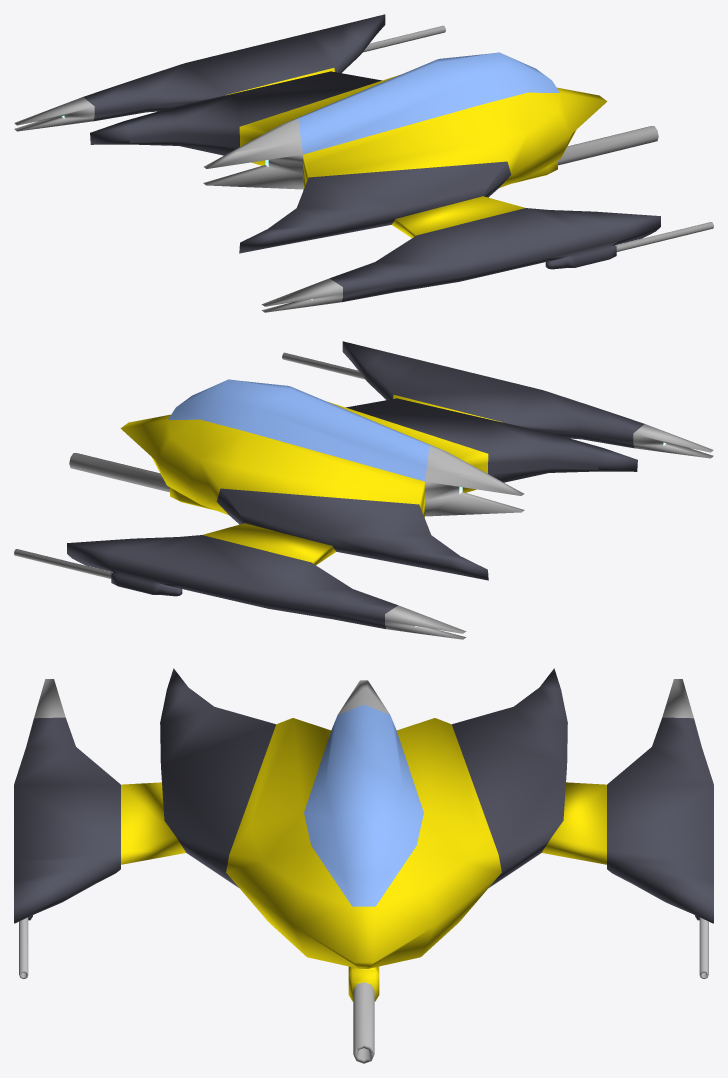
Rendered from Laser Enemy.fbx.
The picture shows the model from 3 angles, top to bottom: view 1: azimuth 30°, elevation 25°; view 2: azimuth 150°, elevation 25°; view 3: azimuth 270°, elevation 25°; orthographic projection. The views are drawn at different scales.
Visible parts, largest first — view 1: Ship; view 2: Ship; view 3: Ship.
Boxes of the visible parts, x1,y1,x2,y2 form: Ship: [14, 14, 713, 312]; Ship: [14, 341, 713, 639]; Ship: [14, 668, 713, 1063].
Bounding box in the file's own units: 967 × 242 × 897.
